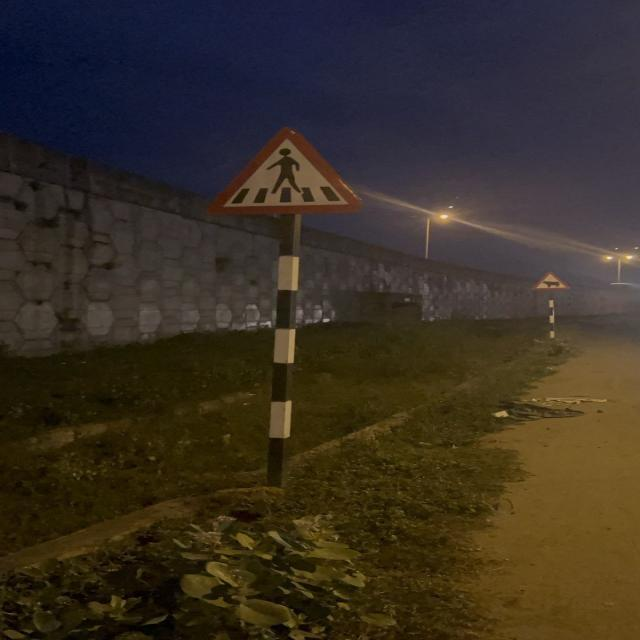pedestrian crossing: (208, 124, 367, 218)
